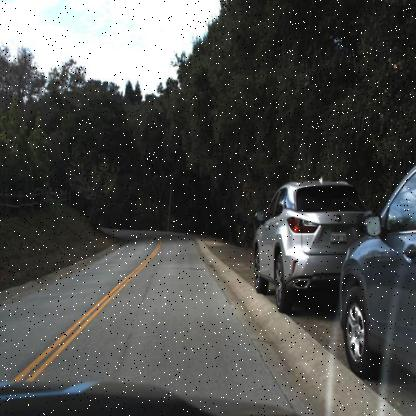car: (251, 176, 385, 315), (250, 176, 375, 320)
